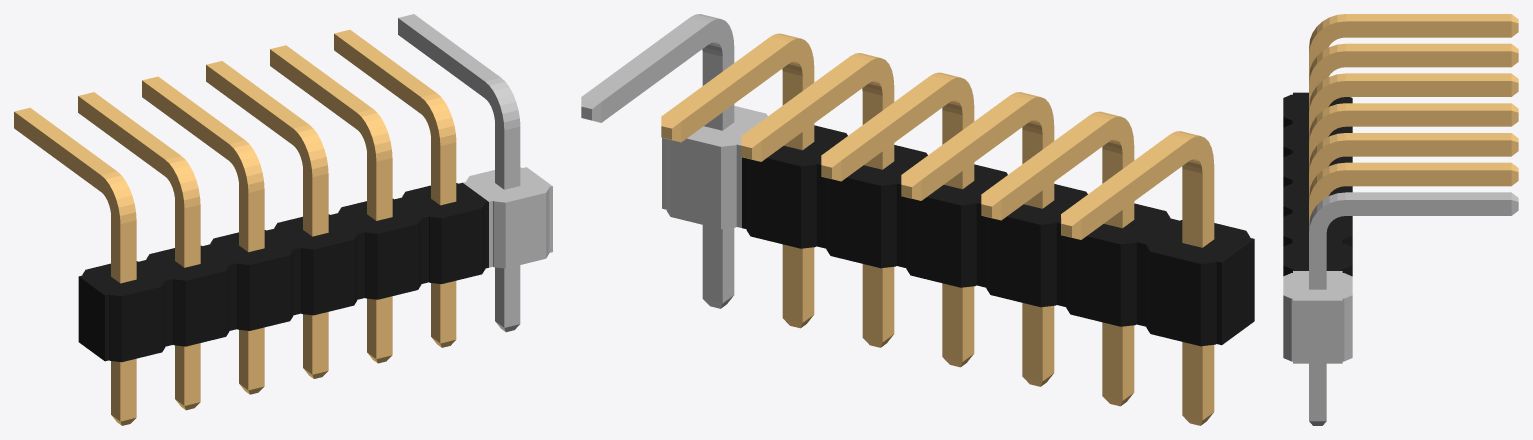
The model's file is DS1022-1x7RUF11.obj.
3 renders of one model, left to right at view 1: azimuth 30°, elevation 25°; view 2: azimuth 150°, elevation 25°; view 3: azimuth 270°, elevation 25°, orthographic. The views are drawn at different scales.
Visible parts, largest first — view 1: DS1022-1x7RUF11; view 2: DS1022-1x7RUF11; view 3: DS1022-1x7RUF11.
Boxes of the visible parts, <box> form: DS1022-1x7RUF11: <box>14,14,552,425</box>; DS1022-1x7RUF11: <box>581,14,1254,425</box>; DS1022-1x7RUF11: <box>1283,14,1518,425</box>.
Bounding box in the file's own units: 0.0181 × 0.00924 × 0.00866.
